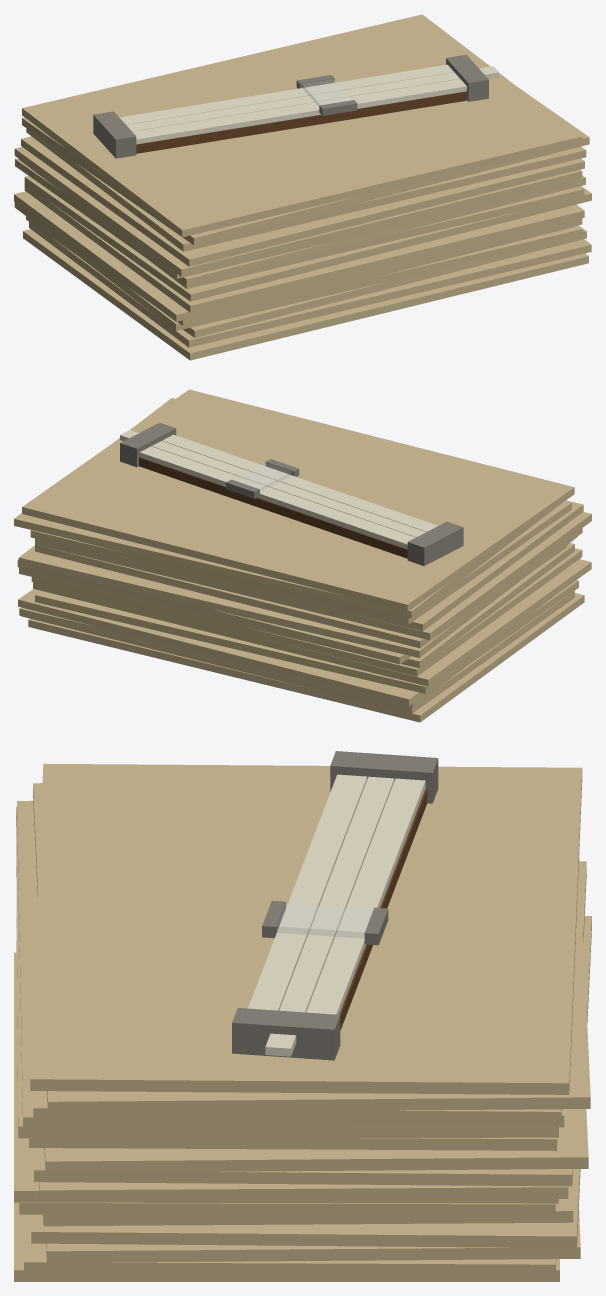
File: ch6-piece-slide-rule.glb
3 renders of one model, top to bottom at view 1: azimuth 30°, elevation 25°; view 2: azimuth 150°, elevation 25°; view 3: azimuth 270°, elevation 25°, orthographic. The views are drawn at different scales.
Visible parts, largest first — view 1: sheet_16, sheet_13, sheet_1, sheet_7, sheet_12, sheet_8, sheet_2, sheet_6, sheet_14, stator_lower, sheet_4, sheet_15 (+10 smaller); view 2: sheet_16, sheet_10, sheet_4, sheet_6, sheet_1, sheet_12, sheet_15, sheet_13, sheet_5, sheet_7, sheet_11, stator_upper (+10 smaller); view 3: sheet_16, sheet_15, sheet_10, sheet_4, sheet_8, sheet_13, sheet_3, sheet_2, sheet_9, stator_upper, stator_lower, end_bracket (×2) (+10 smaller).
Part boxes in pixels (x1,y1,x2,y2): sheet_16: [22, 14, 582, 237]; sheet_13: [21, 136, 584, 266]; sheet_1: [23, 229, 588, 360]; sheet_7: [24, 184, 584, 312]; sheet_12: [14, 147, 582, 276]; sheet_8: [24, 176, 591, 301]; sheet_2: [29, 222, 591, 347]; sheet_6: [14, 191, 582, 321]; sheet_14: [26, 128, 586, 251]; stator_lower: [132, 79, 466, 144]; sheet_4: [14, 202, 583, 330]; sheet_15: [22, 88, 589, 245]; sheet_16: [22, 389, 574, 611]; sheet_10: [18, 536, 577, 657]; sheet_4: [18, 580, 578, 706]; sheet_6: [33, 559, 591, 686]; sheet_1: [28, 593, 584, 722]; sheet_12: [35, 512, 591, 640]; sheet_15: [14, 398, 561, 618]; sheet_13: [30, 500, 583, 631]; sheet_5: [35, 591, 555, 693]; sheet_7: [31, 548, 582, 676]; sheet_11: [35, 528, 582, 648]; stator_upper: [139, 446, 415, 549]; sheet_16: [30, 763, 582, 1094]; sheet_15: [33, 783, 590, 1113]; sheet_10: [44, 1109, 588, 1173]; sheet_4: [31, 916, 591, 1248]; sheet_8: [39, 1182, 568, 1201]; sheet_13: [17, 800, 564, 1128]; sheet_3: [46, 1207, 580, 1262]; sheet_2: [24, 1214, 556, 1276]; sheet_9: [34, 861, 586, 1186]; stator_upper: [306, 778, 425, 1014]; stator_lower: [248, 774, 367, 1010]; end_bracket (×2): [232, 751, 438, 1060].
Bounding box in the file's own units: 0.4426 × 0.1435 × 0.323.
